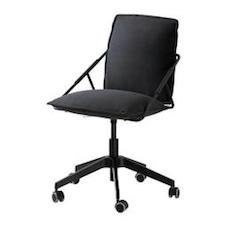chair: (7, 5, 216, 214)
